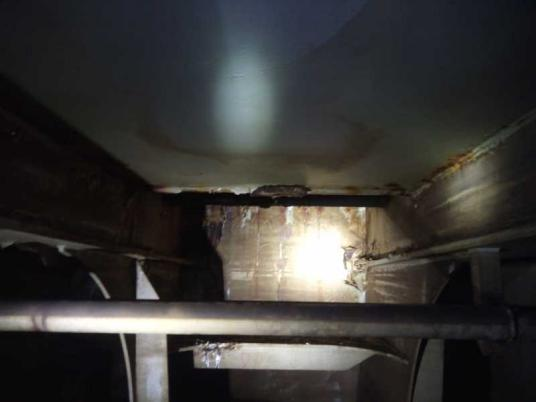corrosion: (201, 193, 376, 232), (339, 231, 371, 292), (189, 340, 244, 369), (435, 148, 494, 173)
